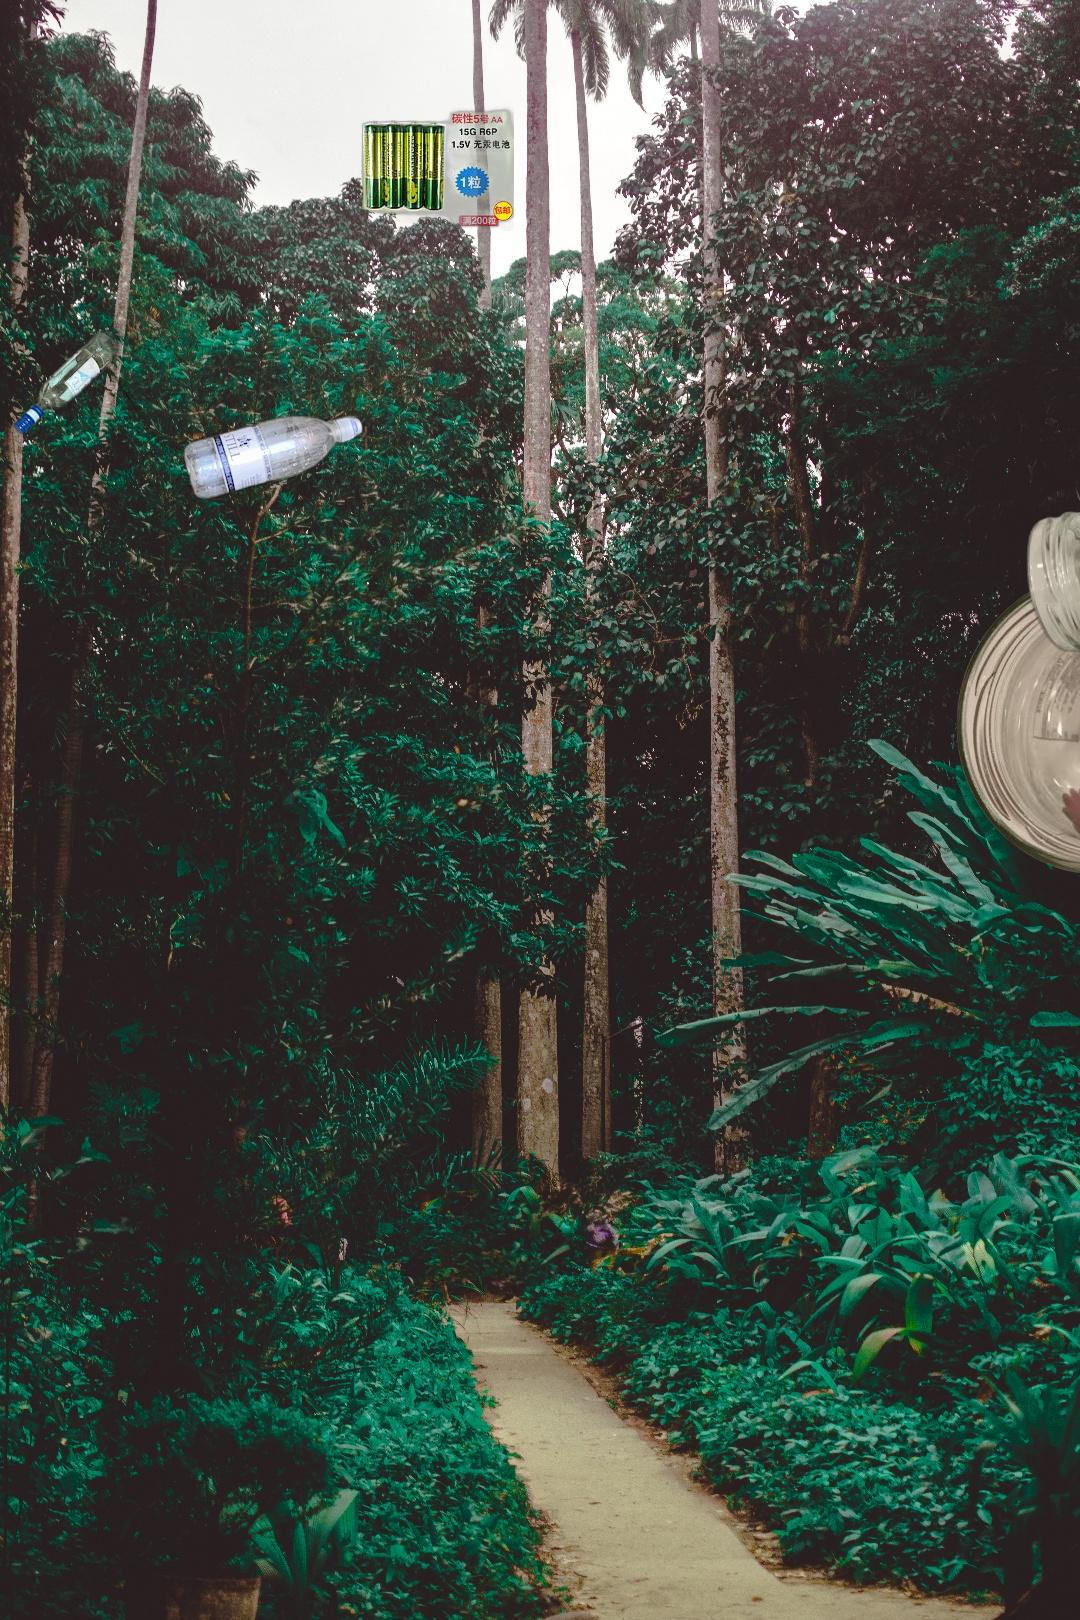battery: (359, 93, 513, 231)
glass: (10, 111, 325, 469), (952, 567, 1080, 877), (1022, 459, 1080, 668)
plastic-bottles: (2, 409, 513, 818)
